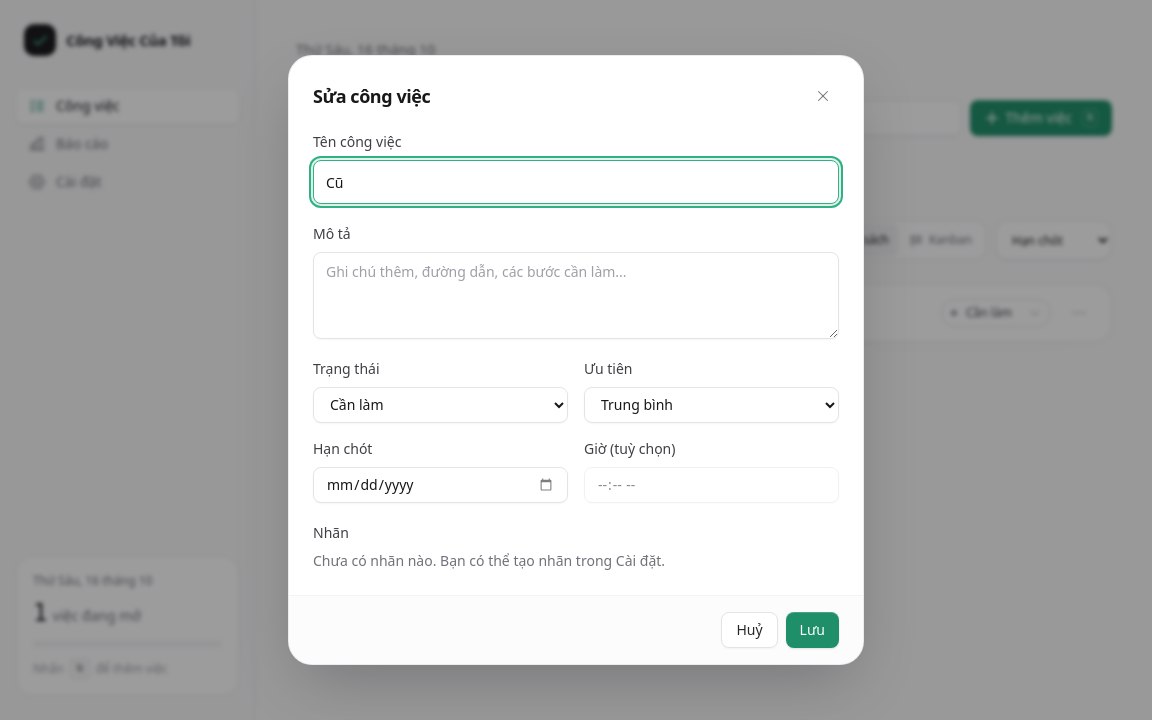
tạo / sửa công việc › mở ?task=<id> để sửa
The width and height of the screenshot is (1152, 720).
Replace the text in the field labelled "Tên công việc" with "Mới". click: (576, 182)
box: [313,160,839,204]
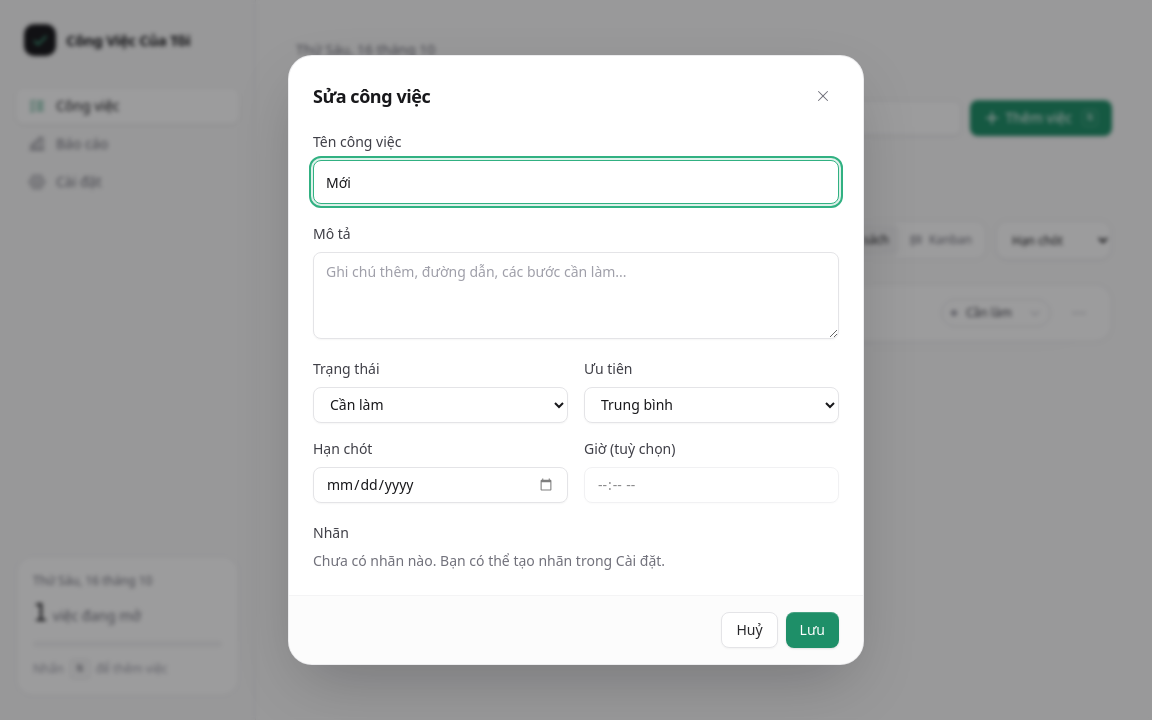
Click the button "Lưu". click: (812, 630)
box: [786,612,839,648]
(page scrolled)
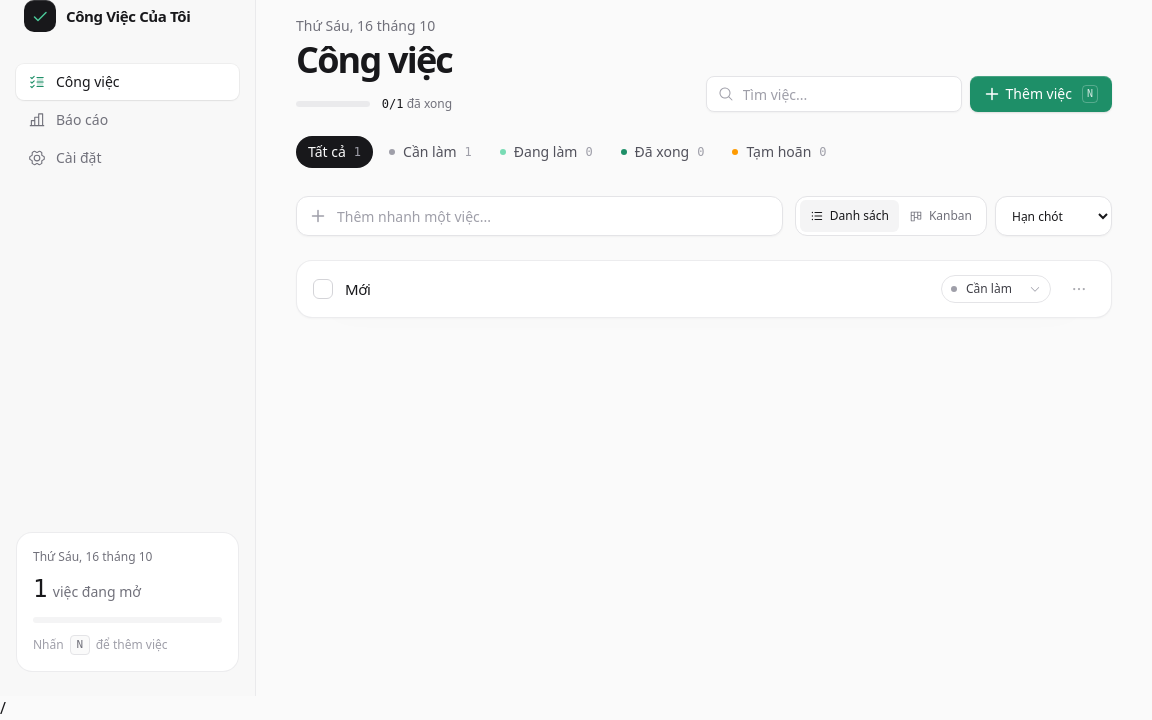
Expected: the dialog is gone
Expected: the button "Mới" is shown, [345,278,371,300]
Expected: the text with test id "location" reads "/", [0,697,6,719]
